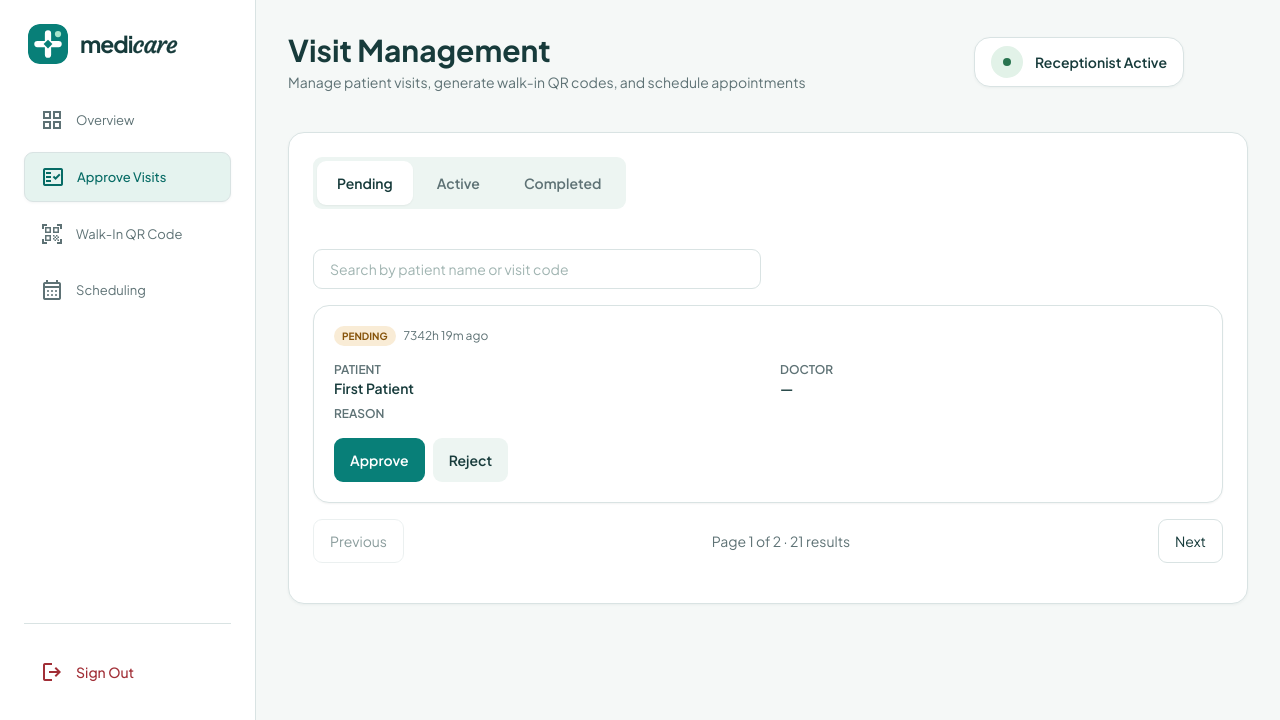
Scenario: receptionist queue searches across pages and resets to the first page
This screenshot has width=1280, height=720.
Expected: the text "First Patient" is shown, [334, 379, 414, 397]
Expected: the text "Older Patient" is not shown
Click the button with aria-label "Next page".
click(1190, 541)  # box [1158, 519, 1223, 563]
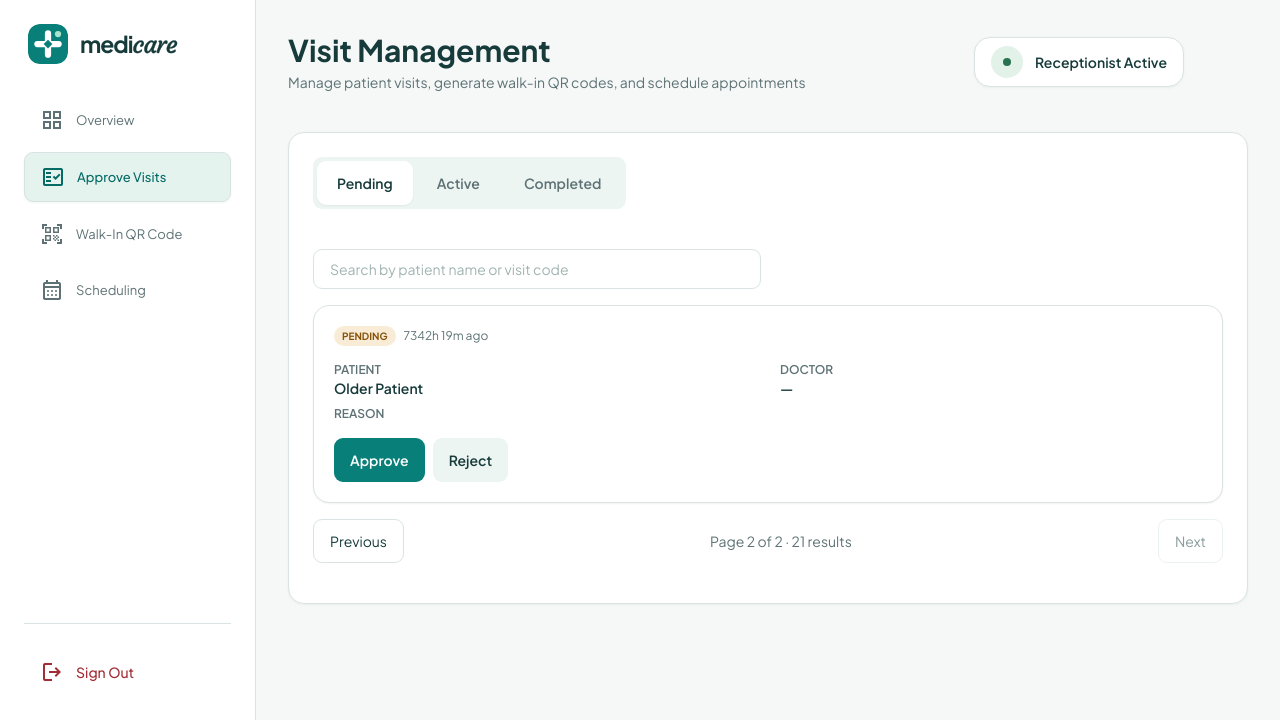
Now the text "Older Patient" is shown, box [334, 379, 423, 397]
Type "Old" into the search field named "Search visits".
click(537, 269); type("Old")  # box [313, 249, 761, 289]
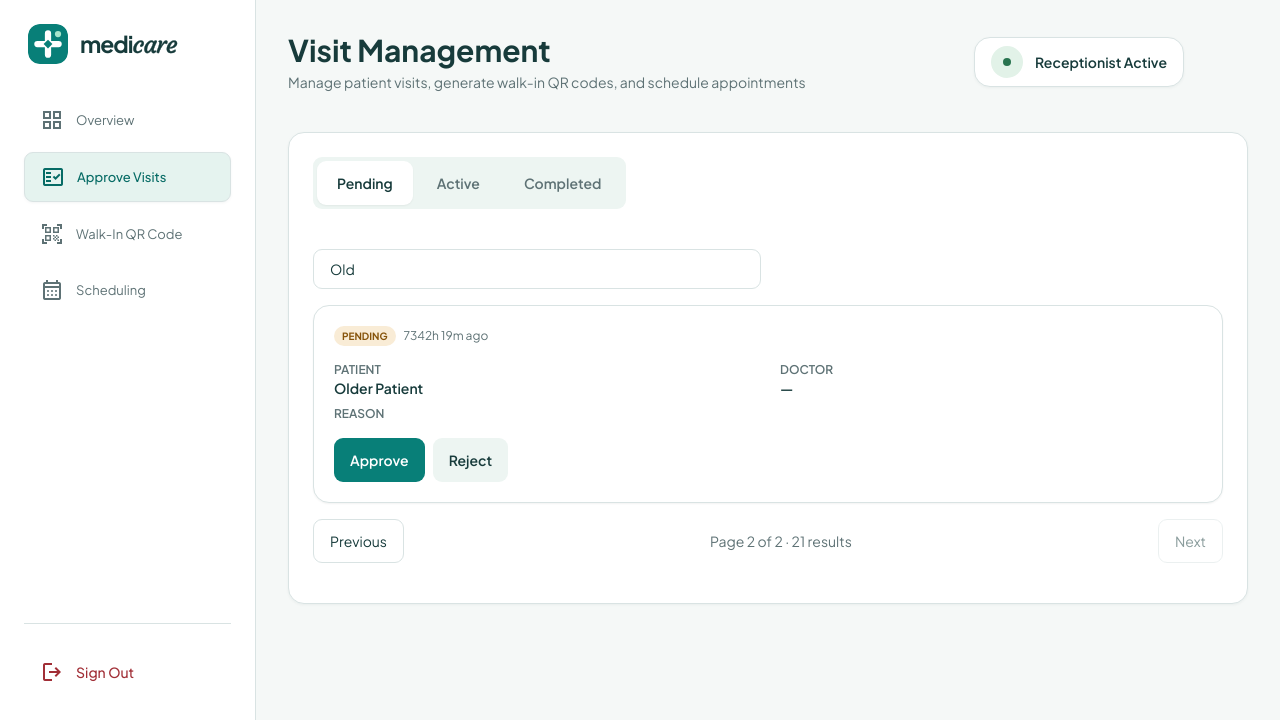
Replace the text in the search field named "Search visits" with "Older" at point(537, 269), box [313, 249, 761, 289]
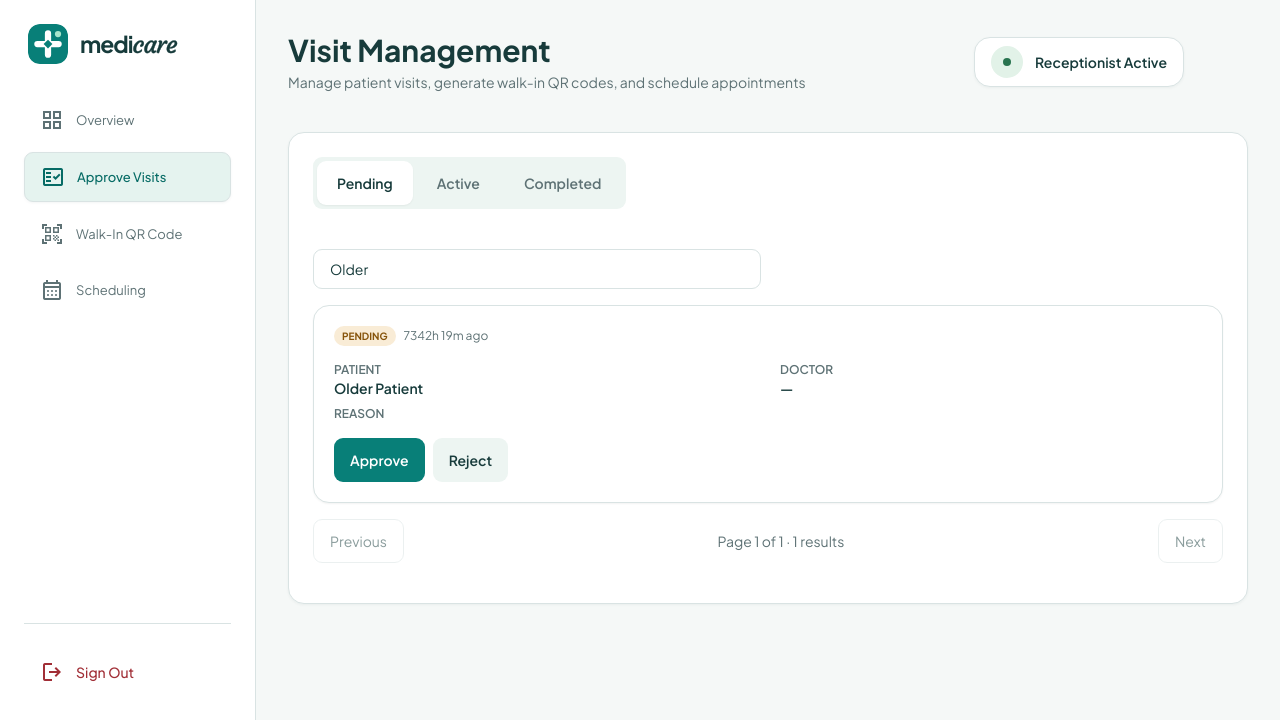
Now the text "Older Patient" is shown, box [334, 379, 423, 397]
Now the text "Page 1 of 1 · 1 results" is shown, box [718, 530, 844, 553]
